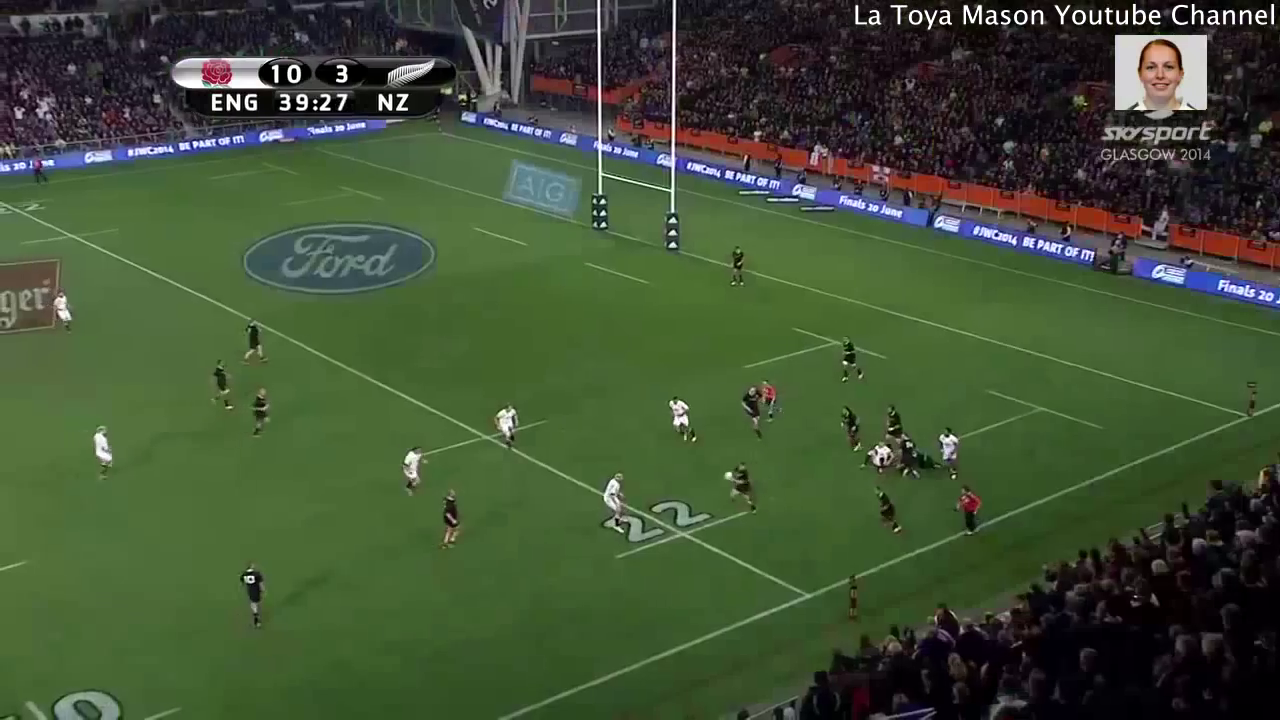10_metre: (1, 686, 196, 720)
ball: (723, 467, 732, 481)
player: (592, 465, 636, 539), (235, 560, 274, 633), (86, 419, 123, 492), (946, 478, 988, 542), (720, 459, 762, 523), (205, 352, 241, 419), (432, 485, 467, 551), (663, 389, 703, 446), (237, 309, 275, 369), (737, 379, 770, 444), (244, 380, 274, 449), (398, 440, 430, 502), (869, 486, 905, 541), (834, 329, 865, 388), (933, 419, 961, 484), (833, 399, 868, 451), (491, 399, 523, 453), (896, 428, 926, 484), (50, 285, 80, 340), (755, 375, 787, 423), (860, 434, 897, 475), (723, 237, 749, 292), (881, 396, 907, 444)
post: (581, 1, 688, 263)
